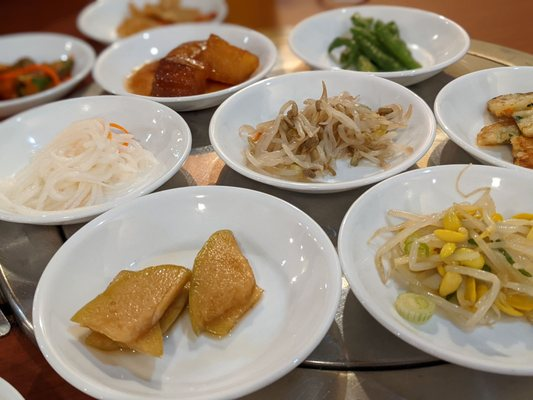sushi: (25, 185, 344, 400), (337, 164, 533, 384), (208, 69, 436, 194), (0, 94, 192, 225), (91, 24, 278, 112), (289, 7, 470, 86), (433, 67, 533, 174), (0, 31, 95, 122)
